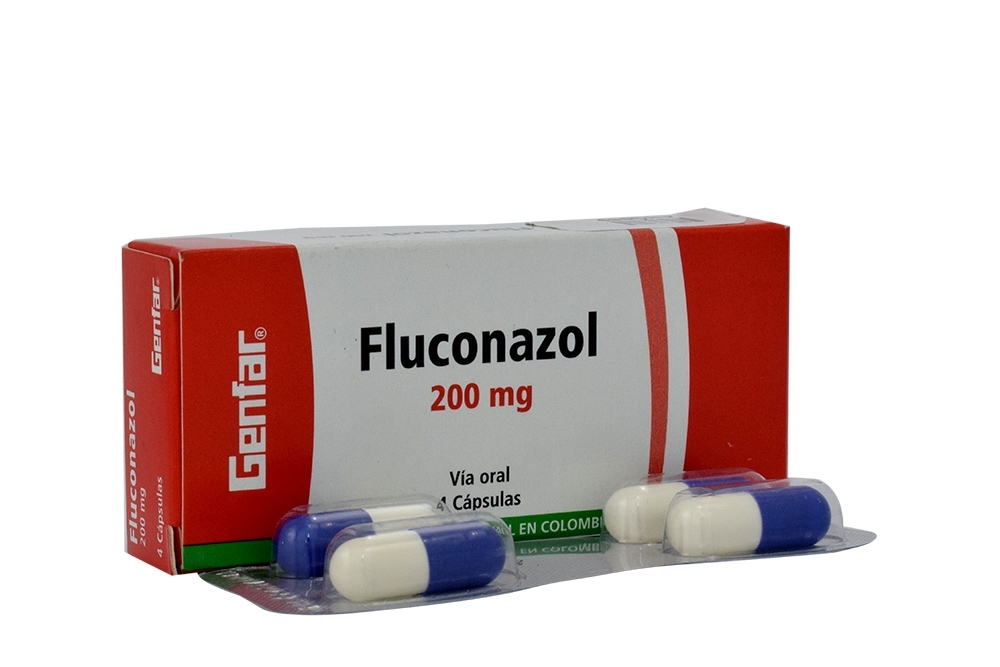Genfar: (186, 232, 785, 566)
